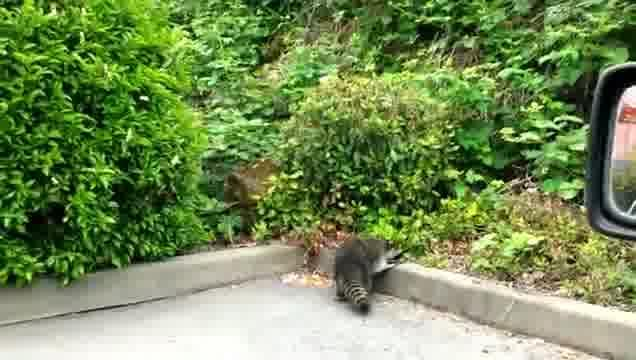raccoon: (335, 236, 408, 315)
